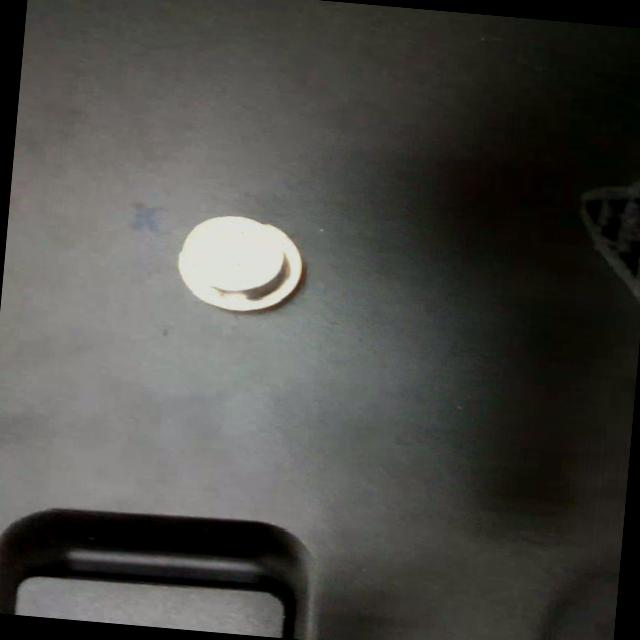sensor: (170, 208, 306, 316)
